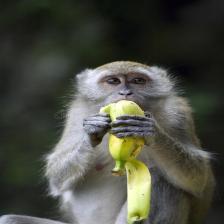monkey: (47, 55, 210, 224)
